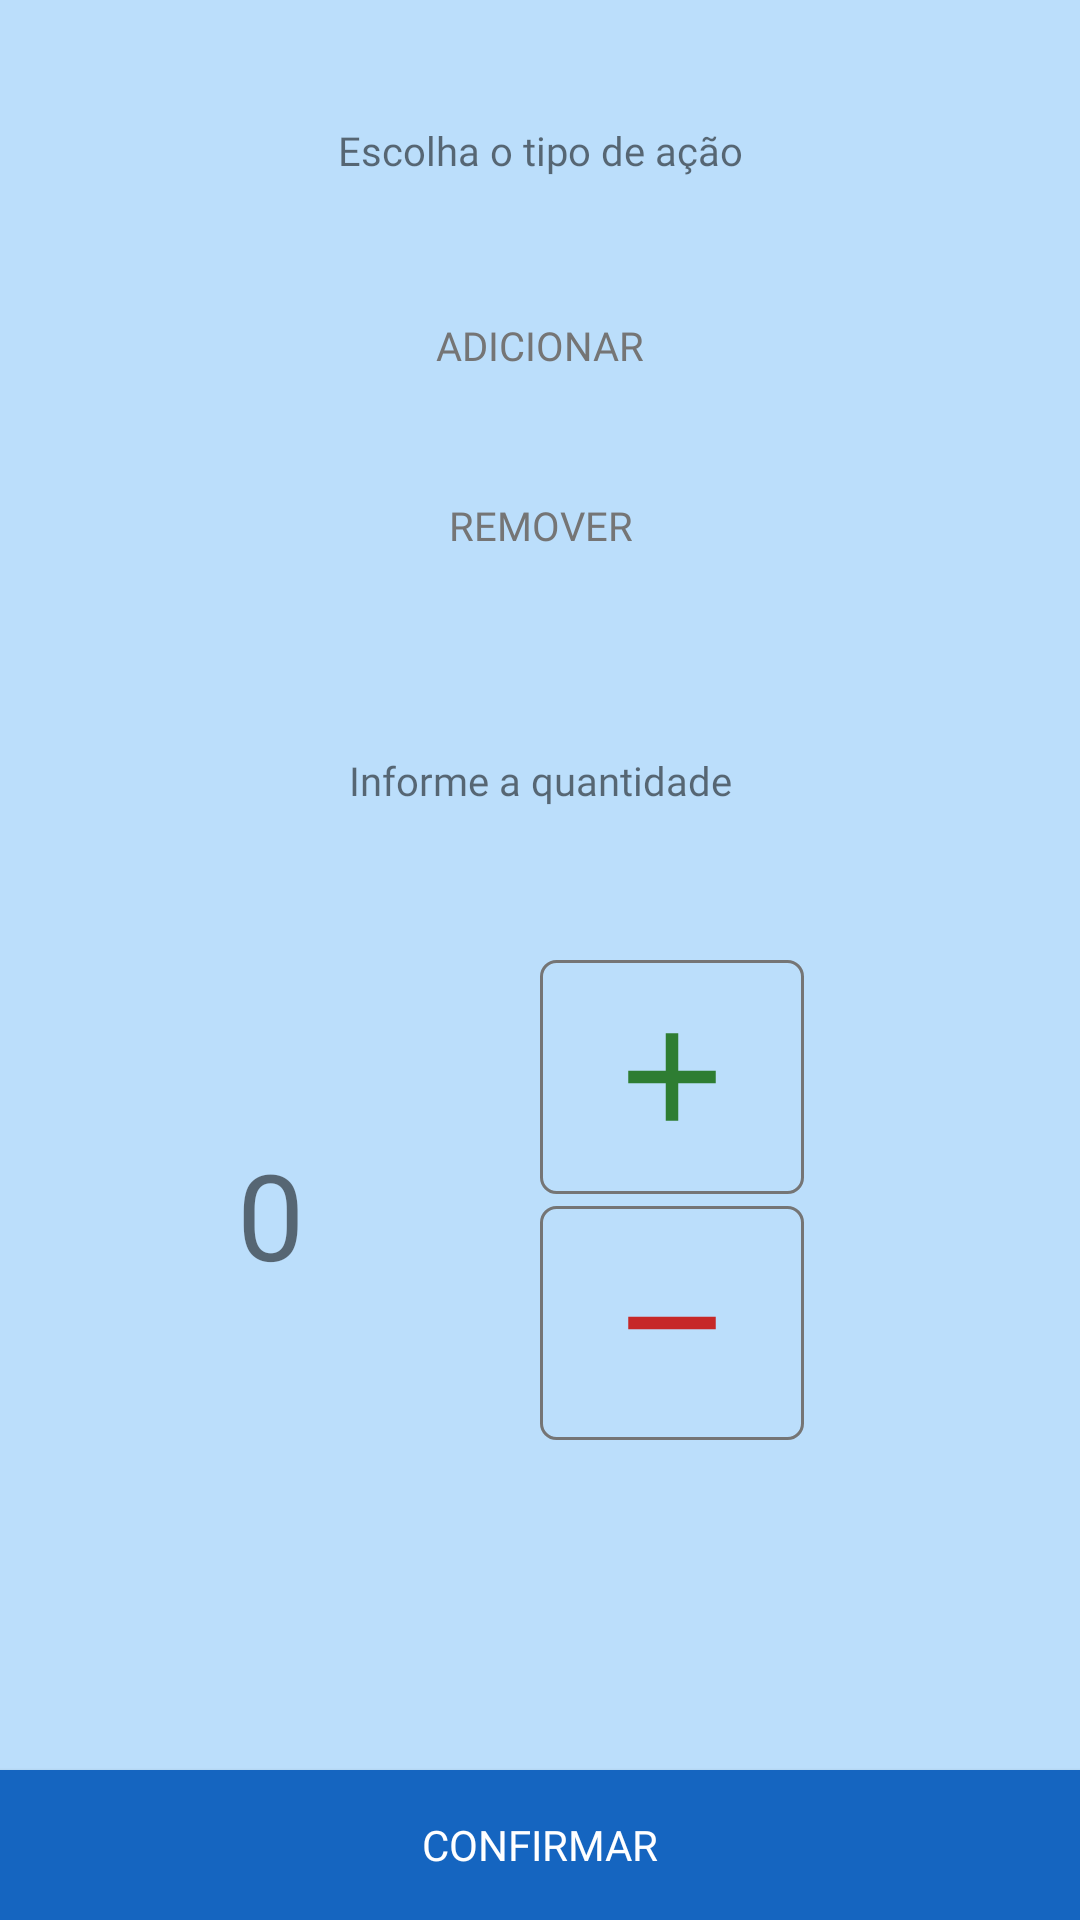

Screen size 1080px×1920px. Icon name, then its center in pixels as point (x, y):
add: point (672, 1077)
